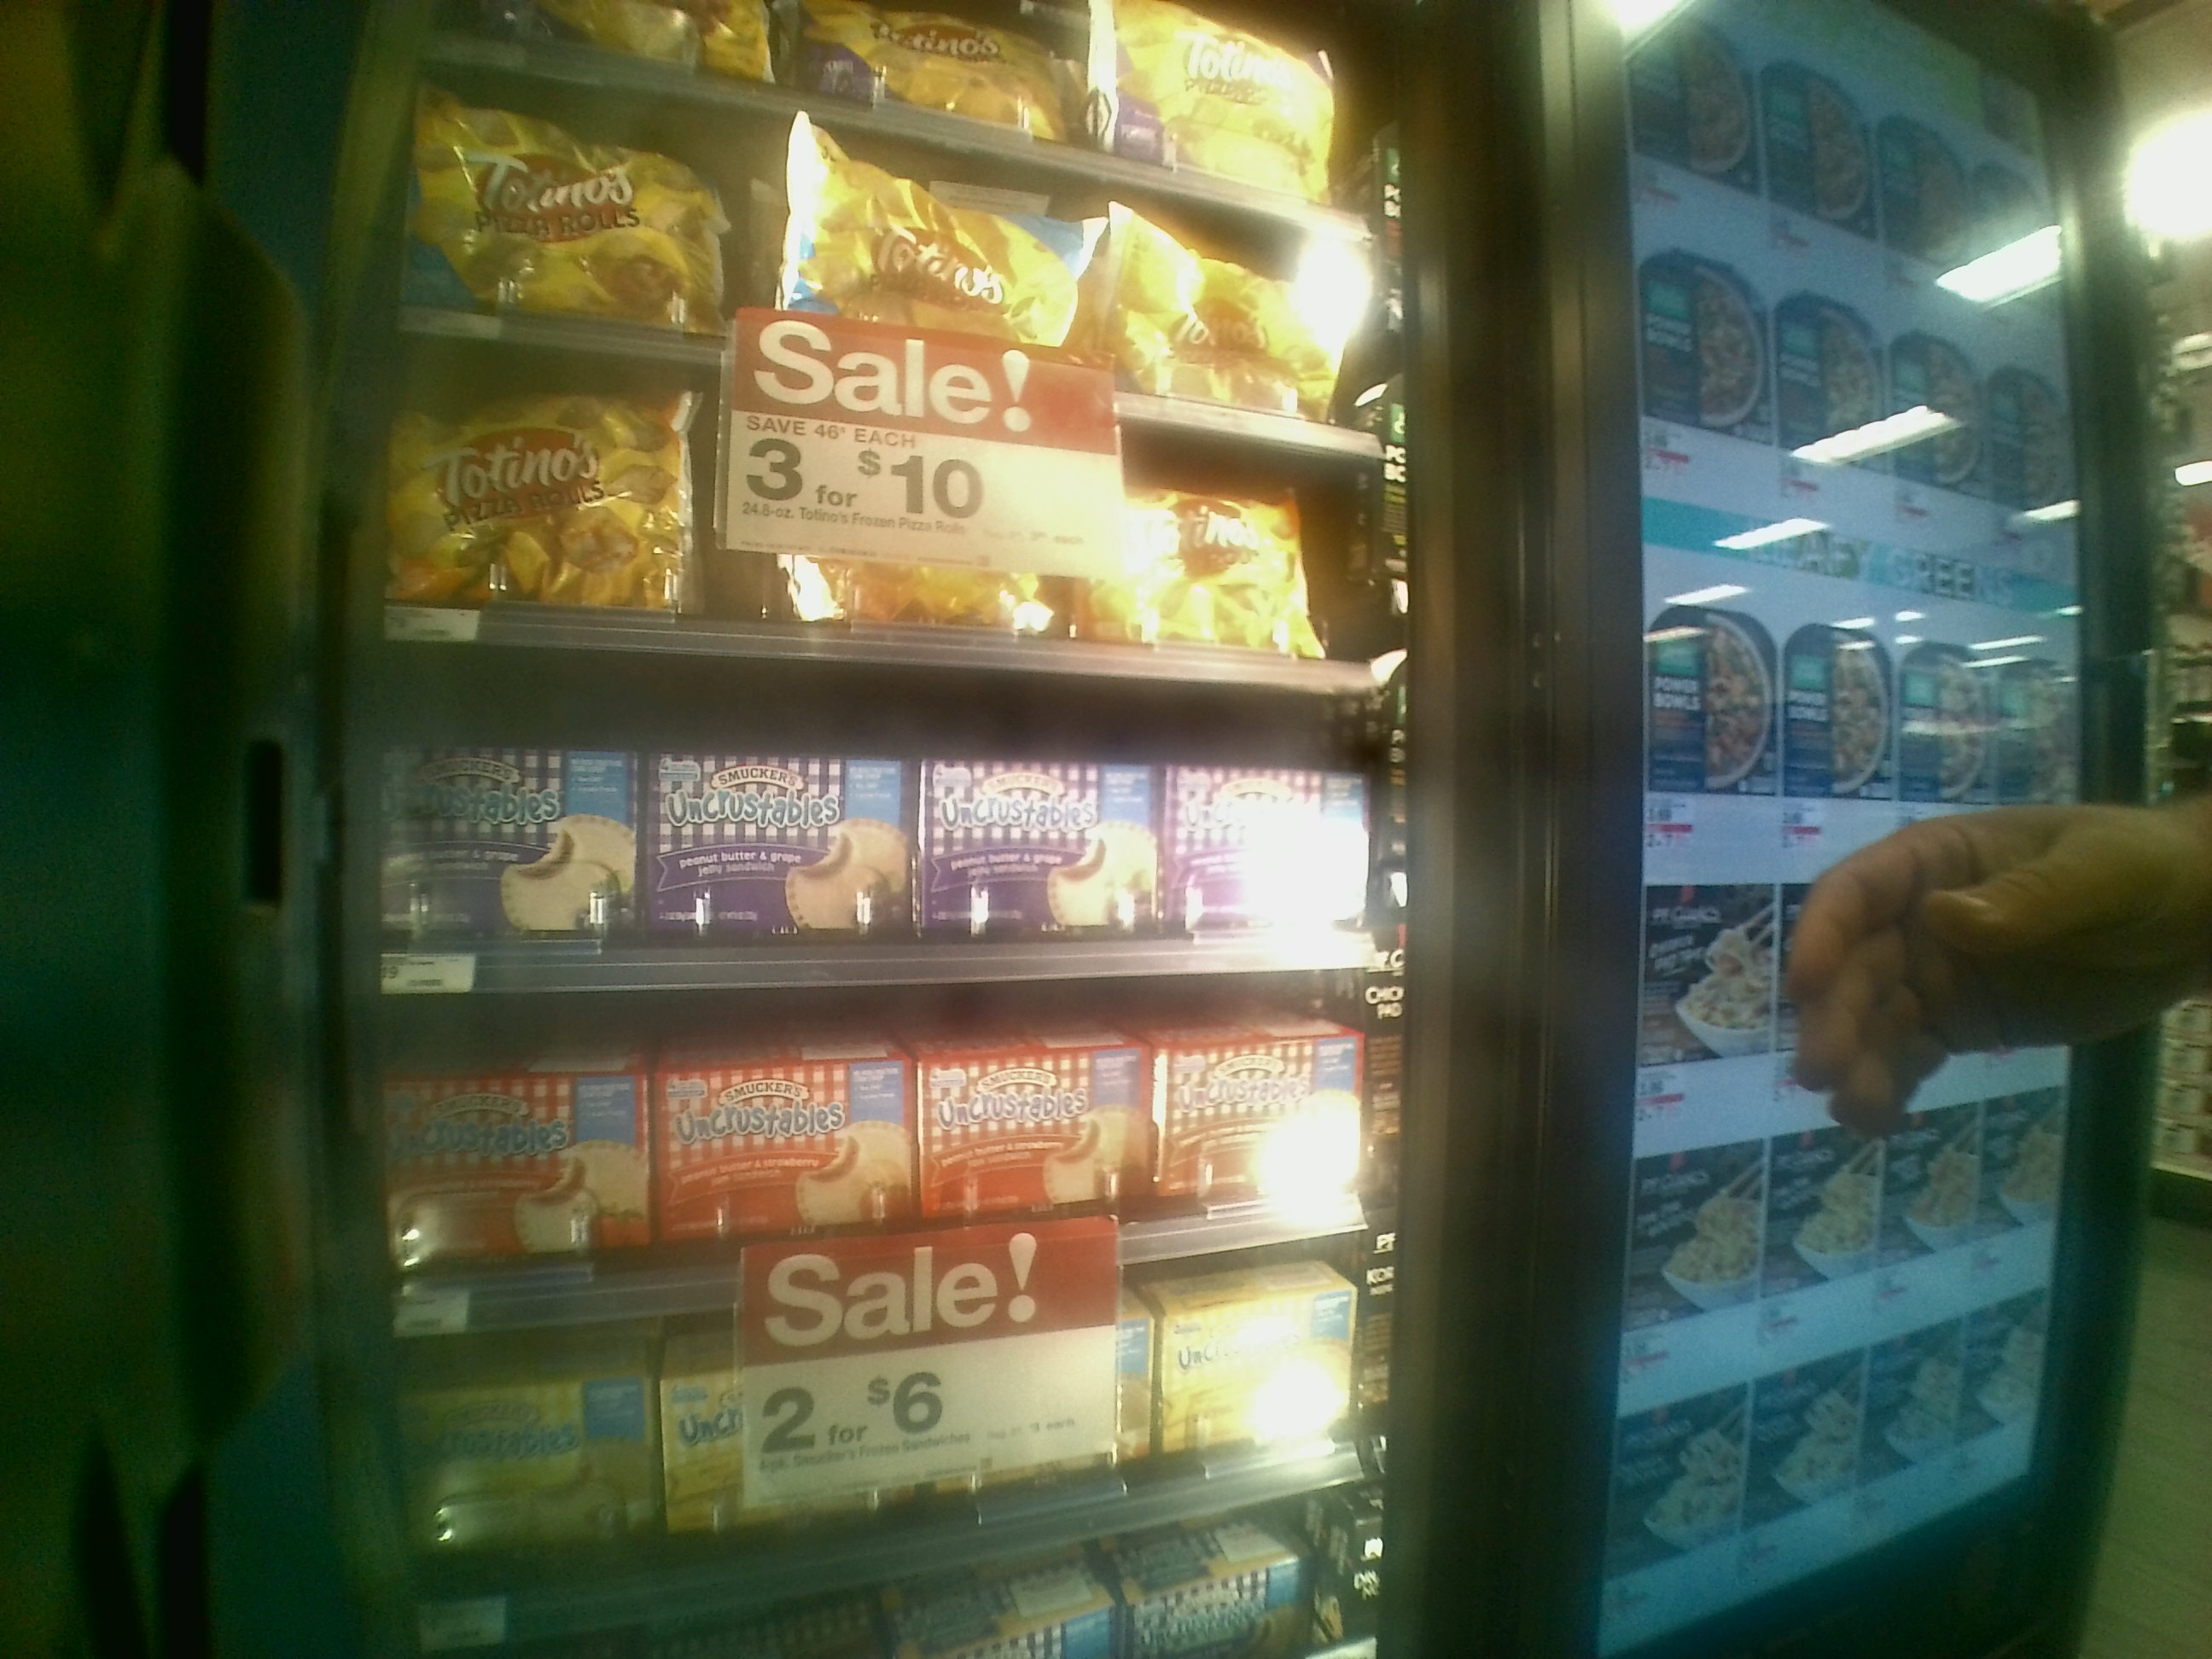shelf: (359, 627, 1385, 985), (376, 314, 1393, 671), (354, 992, 1353, 1290), (364, 1300, 1374, 1530)
